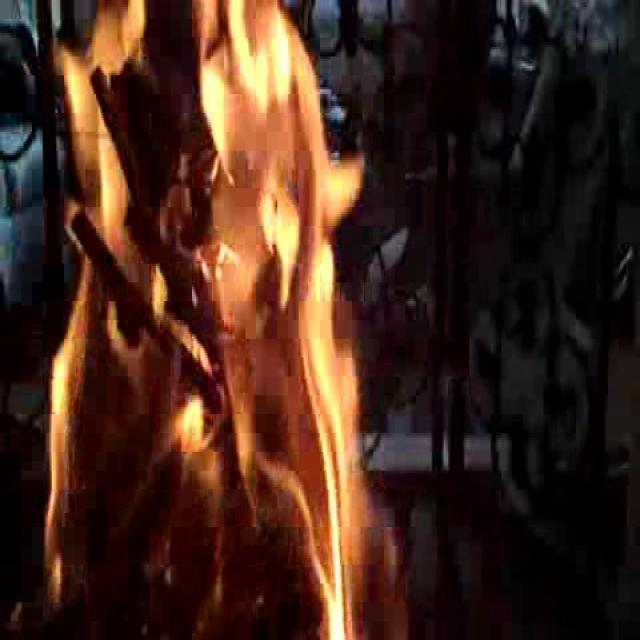Fire: (46, 4, 372, 618)
